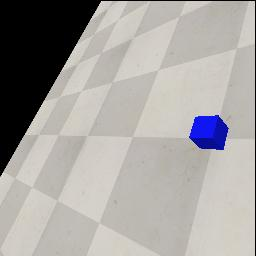box: (189, 115, 229, 150)
